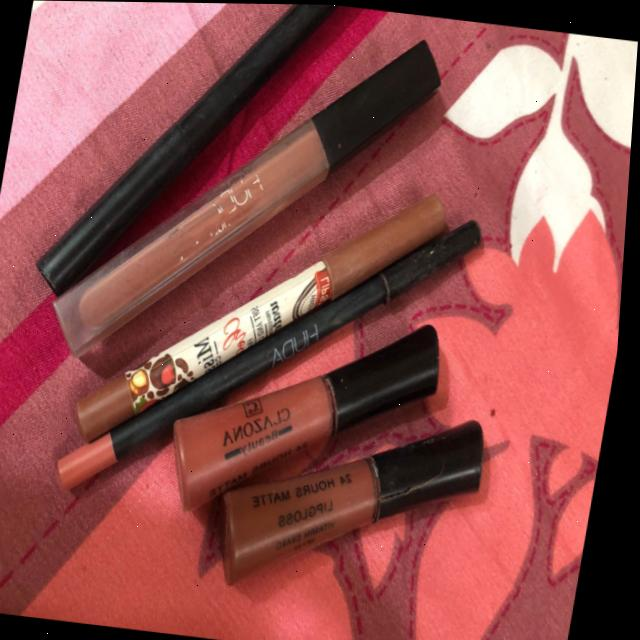lip gloss: (102, 1, 535, 412), (149, 263, 521, 638)
